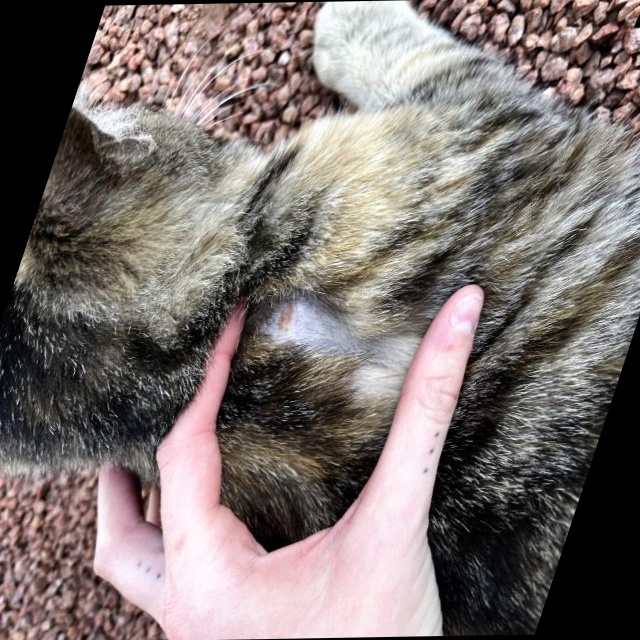hairloss: (220, 281, 445, 405)
